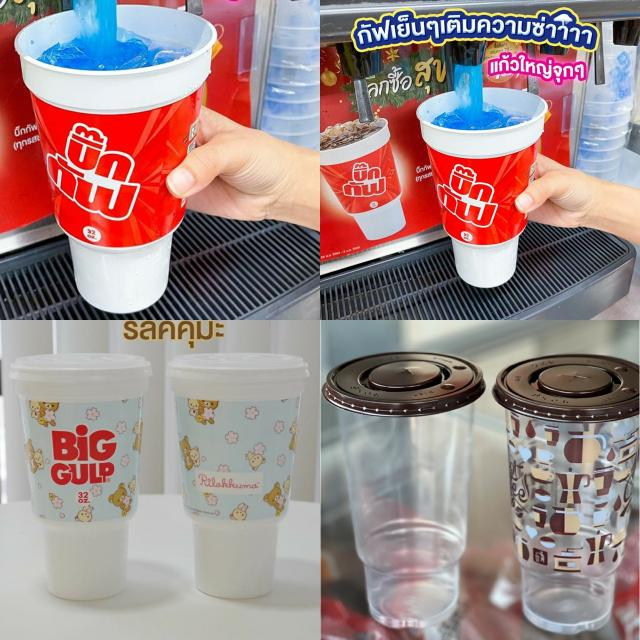Single-Use-Plastic: (15, 0, 216, 312), (322, 352, 485, 628), (492, 354, 640, 634), (166, 352, 309, 599), (10, 354, 152, 600), (416, 65, 548, 288), (321, 118, 405, 240)
